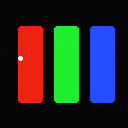0 point: (18, 56, 22, 60)
